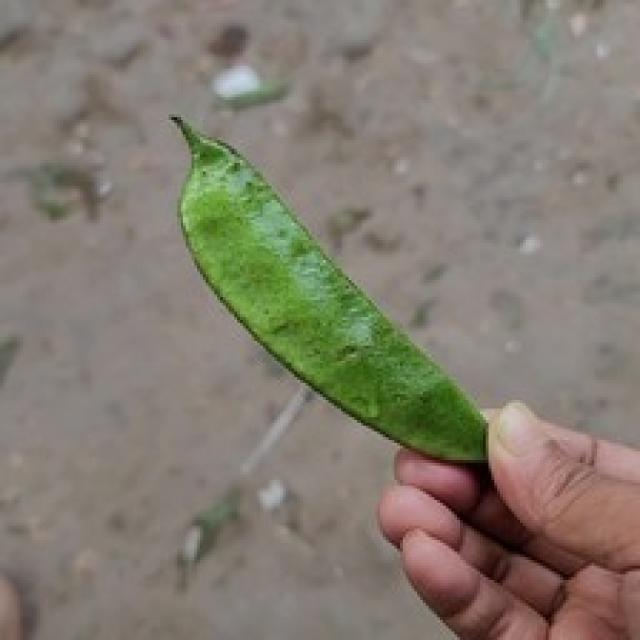Bean: (166, 111, 491, 463)
